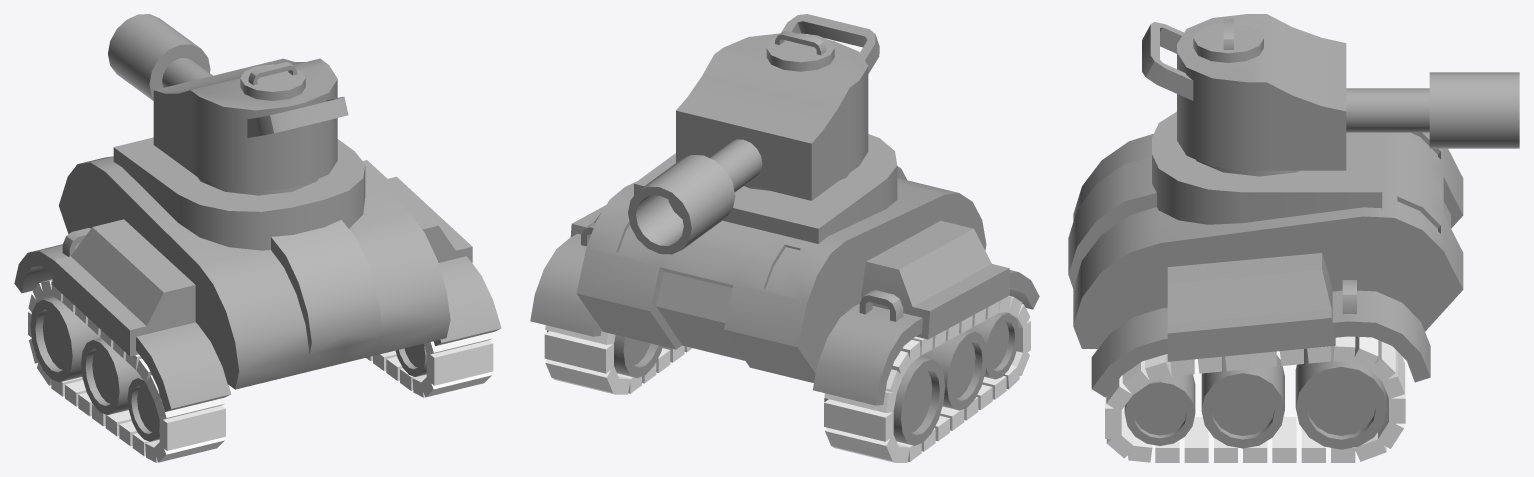
Rendered from mangrove_skiff.glb.
3 renders of one model, left to right at view 1: azimuth 30°, elevation 25°; view 2: azimuth 150°, elevation 25°; view 3: azimuth 270°, elevation 25°, orthographic. The views are drawn at different scales.
Visible parts, largest first — view 1: Body; view 2: Body; view 3: Body.
Part boxes in pixels (x1,y1,x2,y2): Body: (14, 14, 501, 462); Body: (530, 14, 1039, 462); Body: (1068, 14, 1519, 462).
Bounding box in the file's own units: 6.64 × 5.99 × 7.
Materials: 2 (1 with a texture image).
